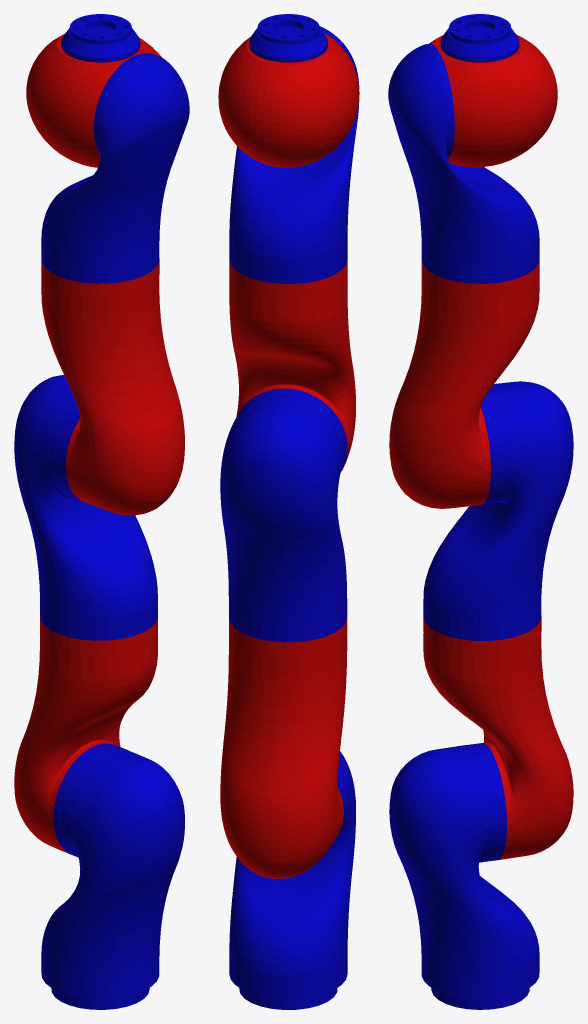
File: lbr.dae
The picture shows the model from 3 angles, left to right: view 1: azimuth 30°, elevation 25°; view 2: azimuth 150°, elevation 25°; view 3: azimuth 270°, elevation 25°; orthographic projection.
Visible parts, largest first — view 1: arm_1_link, arm_4_link, arm_3_link, arm_5_link, arm_2_link, arm_6_link, arm_7_link; view 2: arm_3_link, arm_2_link, arm_1_link, arm_5_link, arm_4_link, arm_6_link, arm_7_link; view 3: arm_1_link, arm_3_link, arm_4_link, arm_5_link, arm_2_link, arm_6_link, arm_7_link.
Part boxes in pixels (left/top/right/bottom): arm_1_link: left=41, top=743, right=184, bottom=1009; arm_4_link: left=41, top=258, right=184, bottom=515; arm_3_link: left=14, top=375, right=157, bottom=640; arm_5_link: left=41, top=53, right=189, bottom=283; arm_2_link: left=14, top=616, right=157, bottom=853; arm_6_link: left=26, top=34, right=161, bottom=167; arm_7_link: left=61, top=14, right=140, bottom=62; arm_3_link: left=220, top=388, right=347, bottom=642; arm_2_link: left=220, top=617, right=347, bottom=879; arm_1_link: left=229, top=751, right=355, bottom=1009; arm_5_link: left=229, top=26, right=359, bottom=284; arm_4_link: left=229, top=260, right=355, bottom=470; arm_6_link: left=218, top=32, right=359, bottom=167; arm_7_link: left=249, top=14, right=327, bottom=62; arm_1_link: left=389, top=743, right=539, bottom=1009; arm_3_link: left=423, top=381, right=573, bottom=640; arm_4_link: left=389, top=258, right=539, bottom=508; arm_5_link: left=388, top=43, right=539, bottom=283; arm_2_link: left=423, top=615, right=573, bottom=859; arm_6_link: left=429, top=34, right=557, bottom=167; arm_7_link: left=440, top=14, right=519, bottom=62.
Bounding box in the file's own units: 0.1476 × 0.1879 × 1.08.
